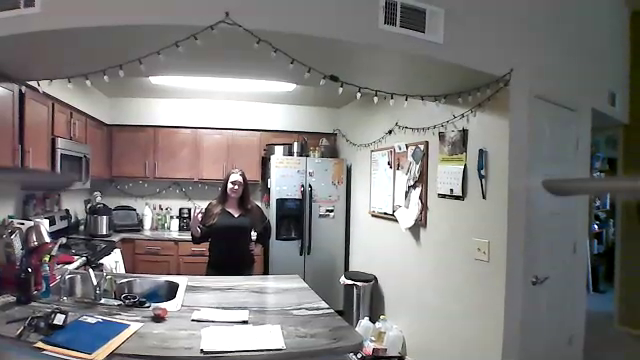peace: (186, 202, 210, 229)
